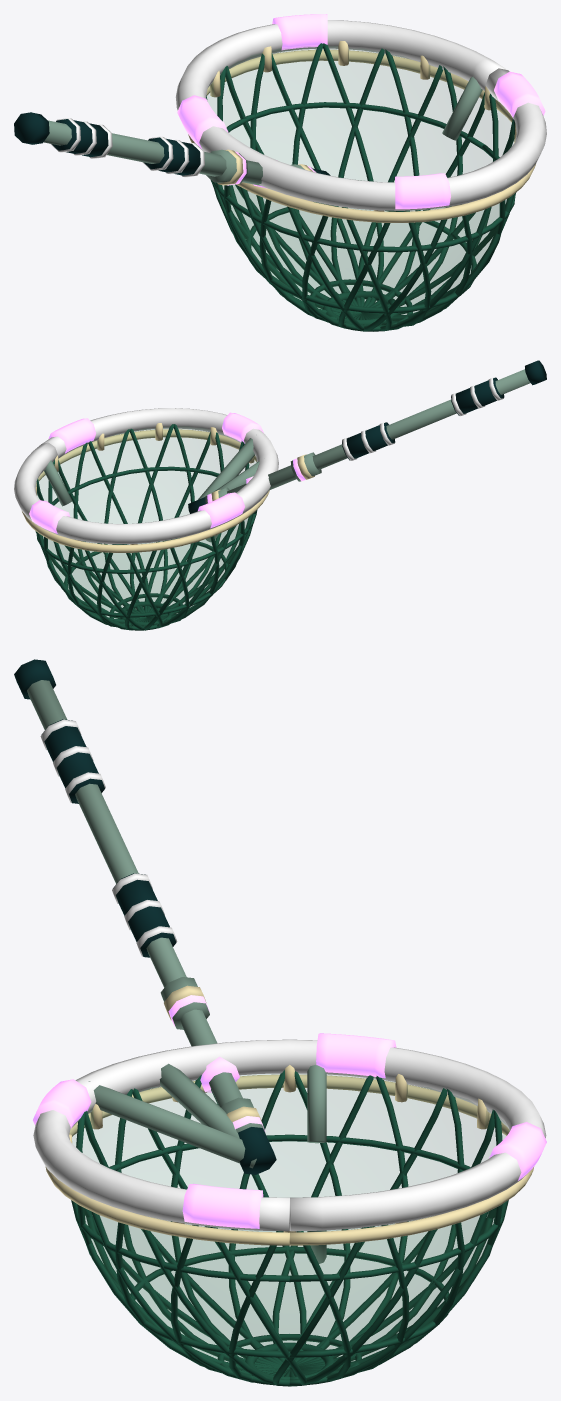
The model's file is net-red-marea.glb.
3 renders of one model, top to bottom at view 1: azimuth 30°, elevation 25°; view 2: azimuth 150°, elevation 25°; view 3: azimuth 270°, elevation 25°, orthographic. The views are drawn at different scales.
Visible parts, largest first — view 1: Open woven pouch.002, Woven green cord.002, NetColor.005, Equipment cream.008, Signal red-marea.001, Equipment lagoon.007, Recovered metal.002, NetColor.004, Recovered metal.003; view 2: Open woven pouch.002, Woven green cord.002, NetColor.005, Equipment cream.008, Signal red-marea.001, Recovered metal.002, Equipment lagoon.007, Recovered metal.003, NetColor.004; view 3: Open woven pouch.002, Woven green cord.002, NetColor.005, Equipment cream.008, Signal red-marea.001, Recovered metal.003, Recovered metal.002, Equipment lagoon.007, NetColor.004, Equipment lagoon.008, Signal red-marea.
Boxes of the visible parts, x1,y1,x2,y2 form: Open woven pouch.002: (207,46,513,328); Woven green cord.002: (206,43,516,331); NetColor.005: (175,20,546,210); Equipment cream.008: (188,41,535,222); Signal red-marea.001: (177,14,545,209); Equipment lagoon.007: (14,112,200,175); Recovered metal.002: (44,120,316,185); NetColor.004: (51,118,204,177); Recovered metal.003: (247,76,482,191); Open woven pouch.002: (37,427,256,627); Woven green cord.002: (35,424,257,630); NetColor.005: (14,408,278,544); Equipment cream.008: (22,423,269,552); Signal red-marea.001: (29,412,263,533); Recovered metal.002: (205,369,530,503); Equipment lagoon.007: (342,360,546,460); Recovered metal.003: (44,438,259,542); NetColor.004: (342,377,503,460); Open woven pouch.002: (70,1074,508,1381); Woven green cord.002: (71,1070,508,1386); NetColor.005: (33,1039,546,1231); Equipment cream.008: (45,1065,533,1245); Signal red-marea.001: (33,1033,546,1228); Recovered metal.003: (88,1063,326,1263); Recovered metal.002: (27,680,265,1133); Equipment lagoon.007: (14,659,176,957); NetColor.004: (40,719,177,956); Equipment lagoon.008: (238,1127,276,1174); Signal red-marea: (168,995,265,1131).
Size of the model in its own units: 3.03 by 1.88 by 1.97.
